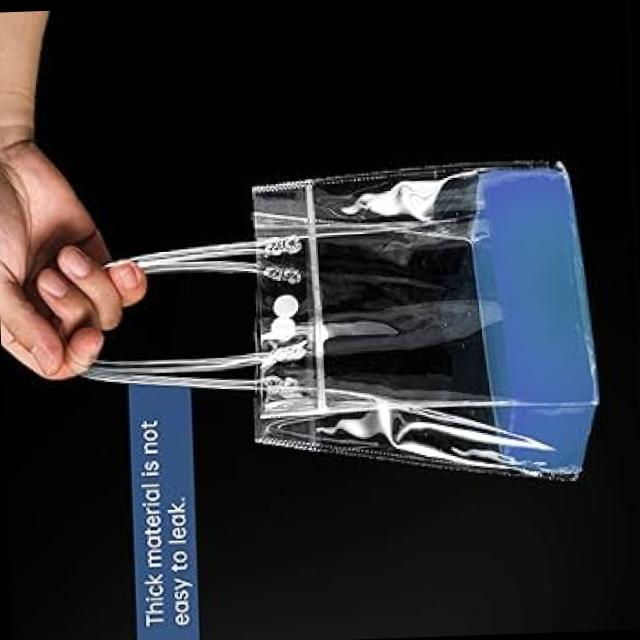plastic_bag: (49, 88, 633, 529)
